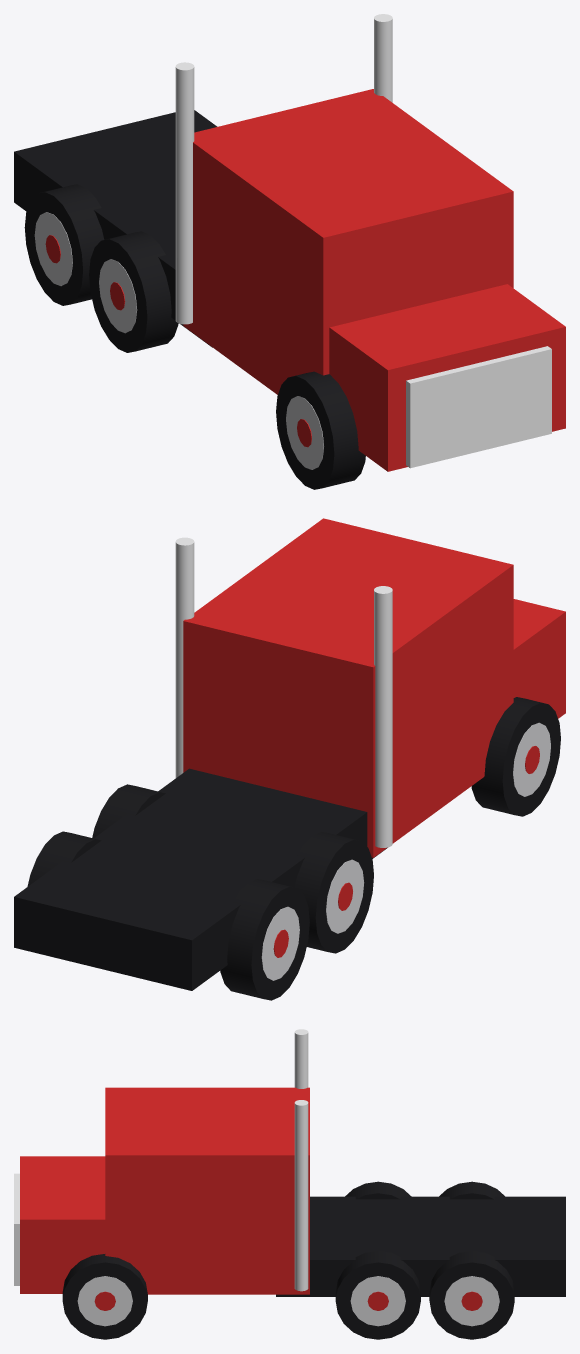
File: truck.glb
3 renders of one model, top to bottom at view 1: azimuth 30°, elevation 25°; view 2: azimuth 150°, elevation 25°; view 3: azimuth 270°, elevation 25°, orthographic. The views are drawn at different scales.
Bounding box in the file's own units: 0.3492 × 0.4637 × 1.
